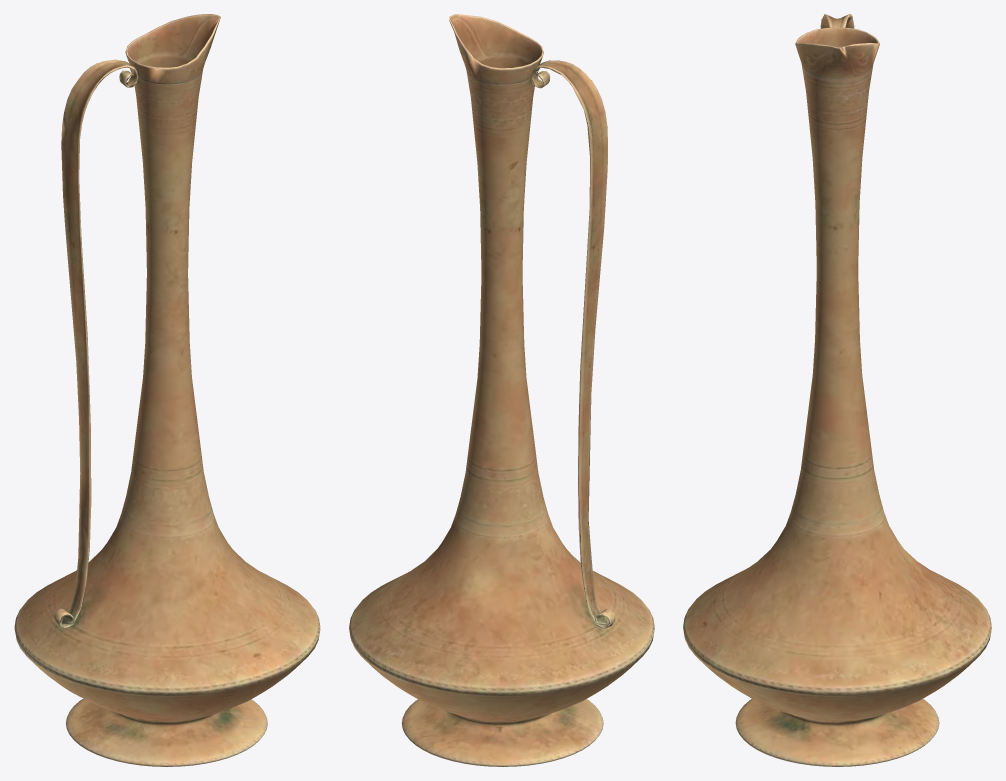
Rendered from brass_vase_02.glb.
3 views of the same model, side by side, from view 1: azimuth 30°, elevation 25°; view 2: azimuth 150°, elevation 25°; view 3: azimuth 270°, elevation 25° (orthographic).
Visible parts, largest first — view 1: brass_vase_02; view 2: brass_vase_02; view 3: brass_vase_02.
Boxes of the visible parts, x1=… form: brass_vase_02: x1=14, y1=14, x2=320, y2=766; brass_vase_02: x1=349, y1=14, x2=654, y2=766; brass_vase_02: x1=683, y1=14, x2=991, y2=766.
Bounding box in the file's own units: 0.2103 × 0.5286 × 0.2103.
Materials: 1 (1 with a texture image).
